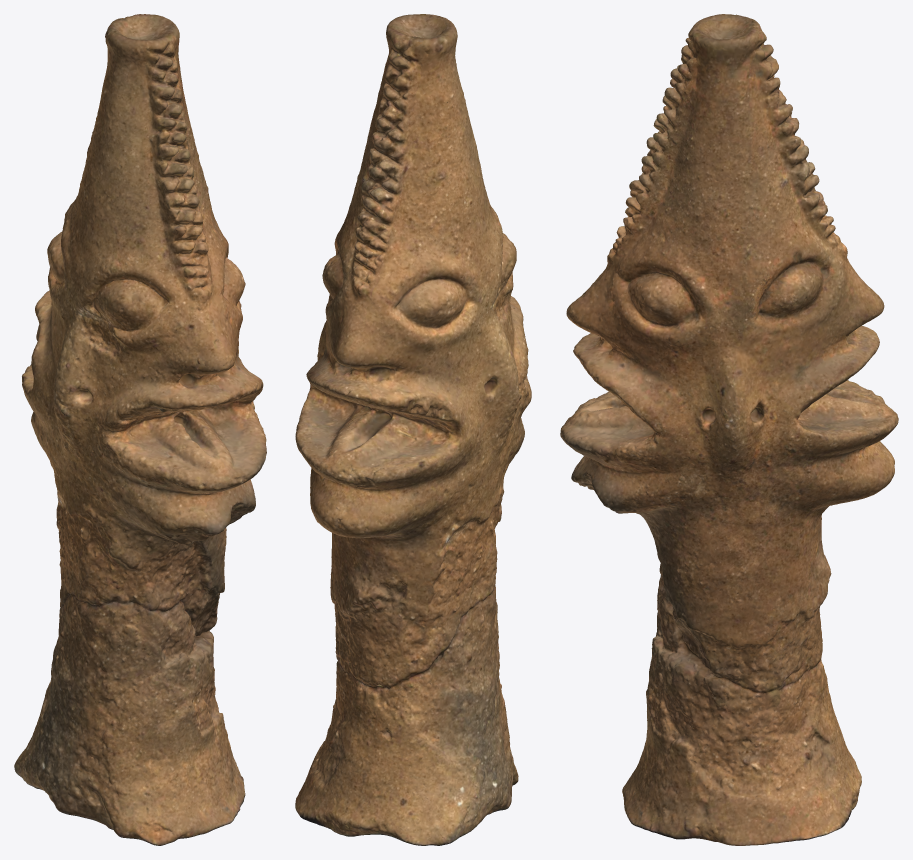
Rendered from preview.glb.
The picture shows the model from 3 angles, left to right: view 1: azimuth 30°, elevation 25°; view 2: azimuth 150°, elevation 25°; view 3: azimuth 270°, elevation 25°; orthographic projection.
Visible parts, largest first — view 1: Object_2; view 2: Object_2; view 3: Object_2.
Part boxes in pixels (x1=…): Object_2: x1=14, y1=14, x2=266, y2=845; Object_2: x1=295, y1=14, x2=531, y2=845; Object_2: x1=560, y1=14, x2=898, y2=845.
Bounding box in the file's own units: 60.62 × 237 × 93.14.
Materials: 1 (1 with a texture image).
